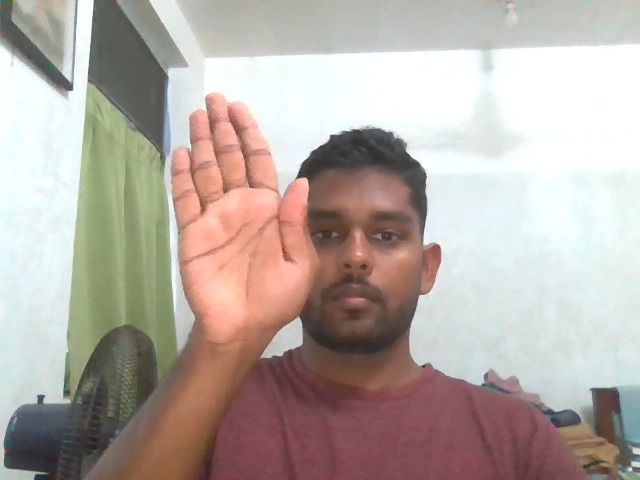bye: (152, 90, 330, 332)
